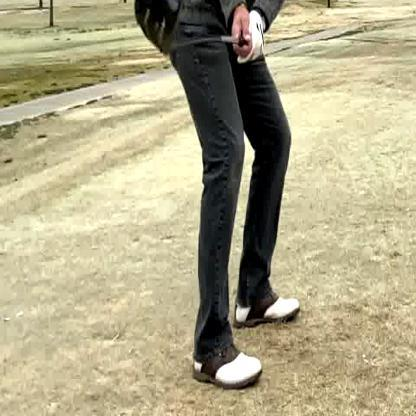GolfBall: (133, 0, 189, 56)
